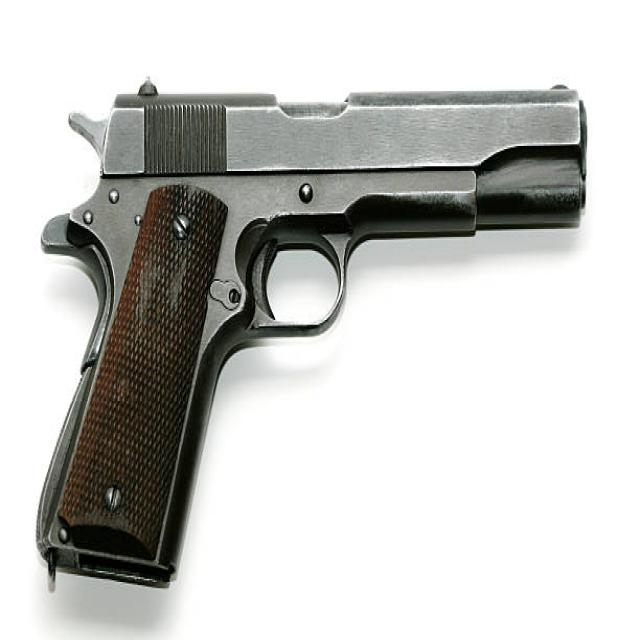pistol: (30, 76, 604, 599)
